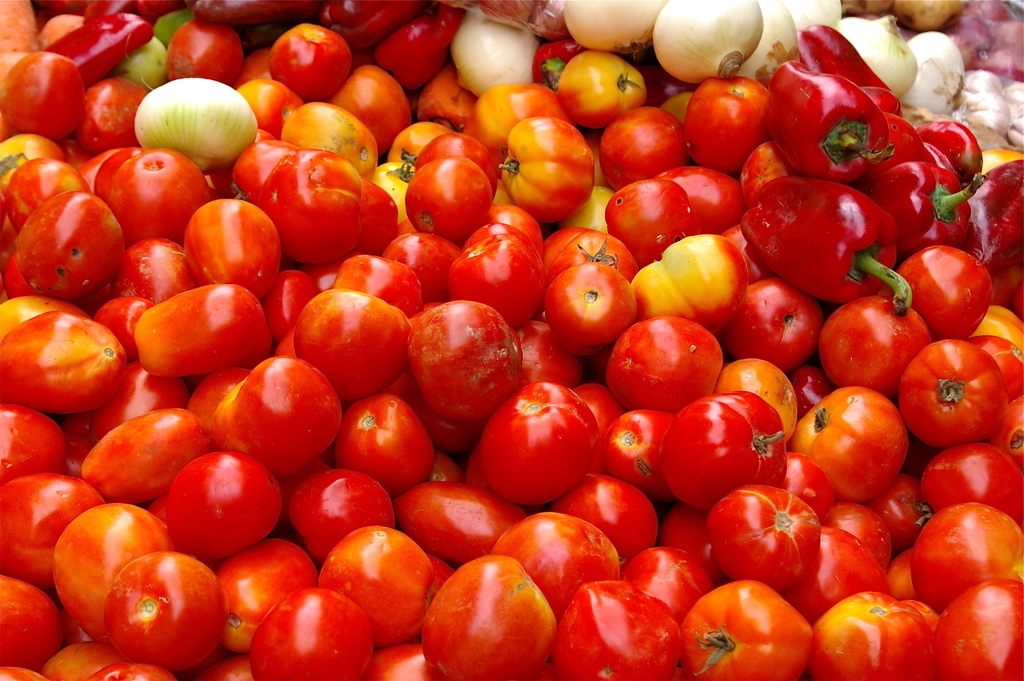Tomato: (2, 0, 1023, 680), (150, 446, 266, 564)
